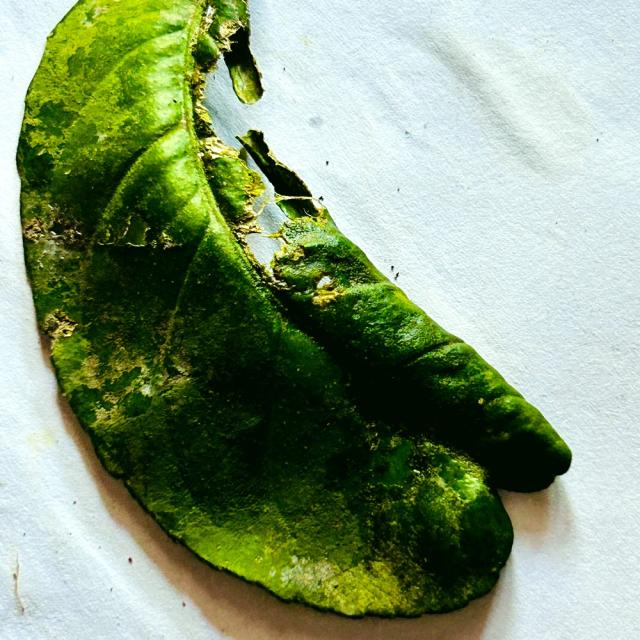Deficiency Leaf: (236, 136, 306, 268), (202, 30, 265, 148)
Lemon: (17, 0, 571, 617)
